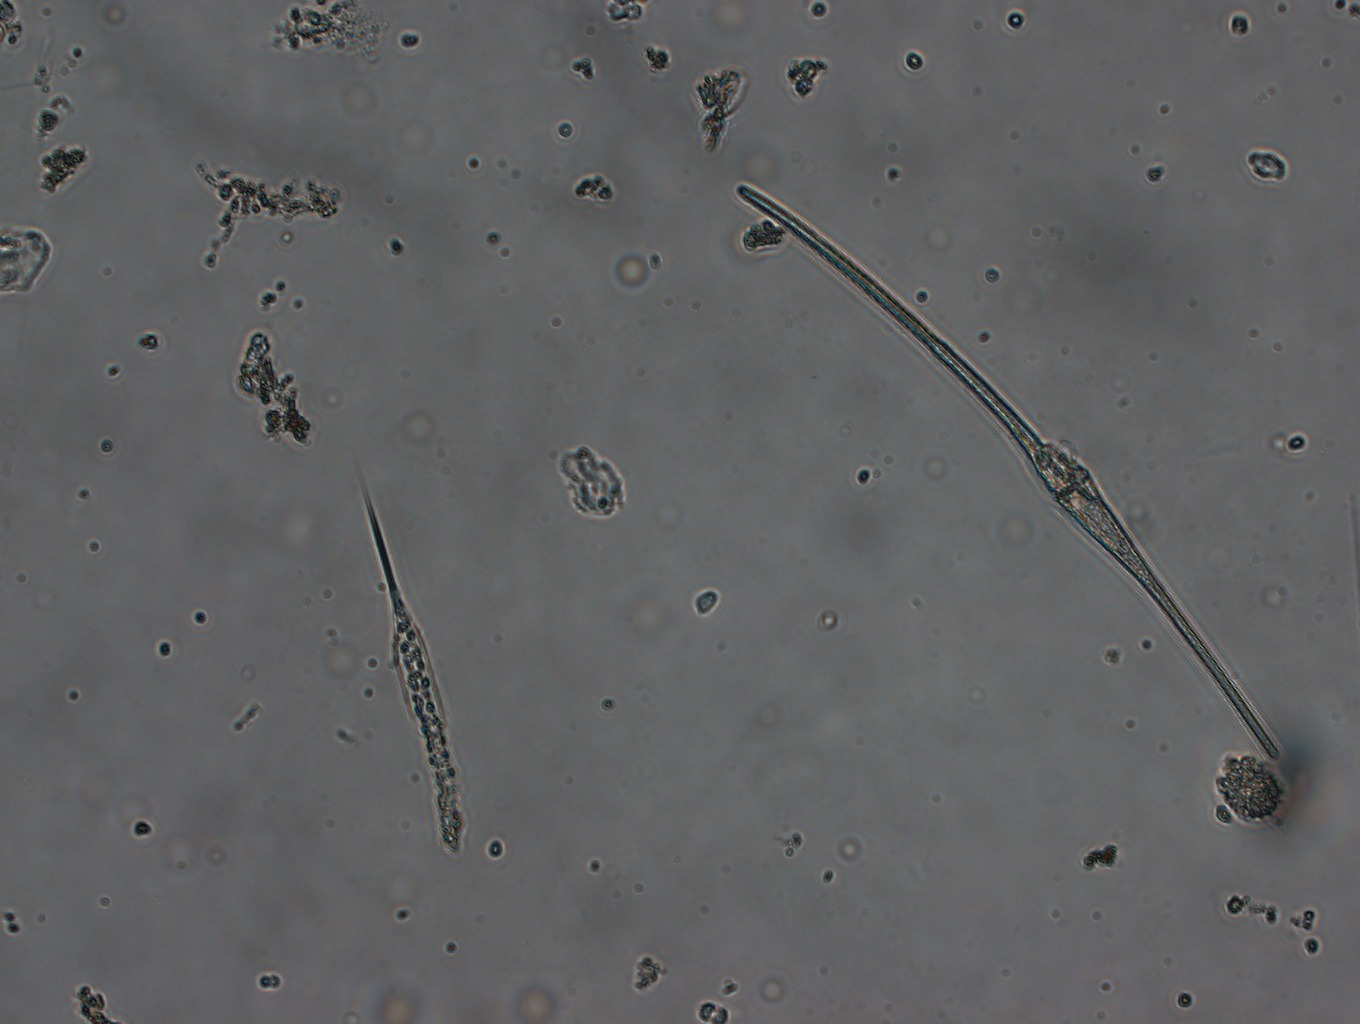ceratium fusus: (727, 175, 1299, 771)
